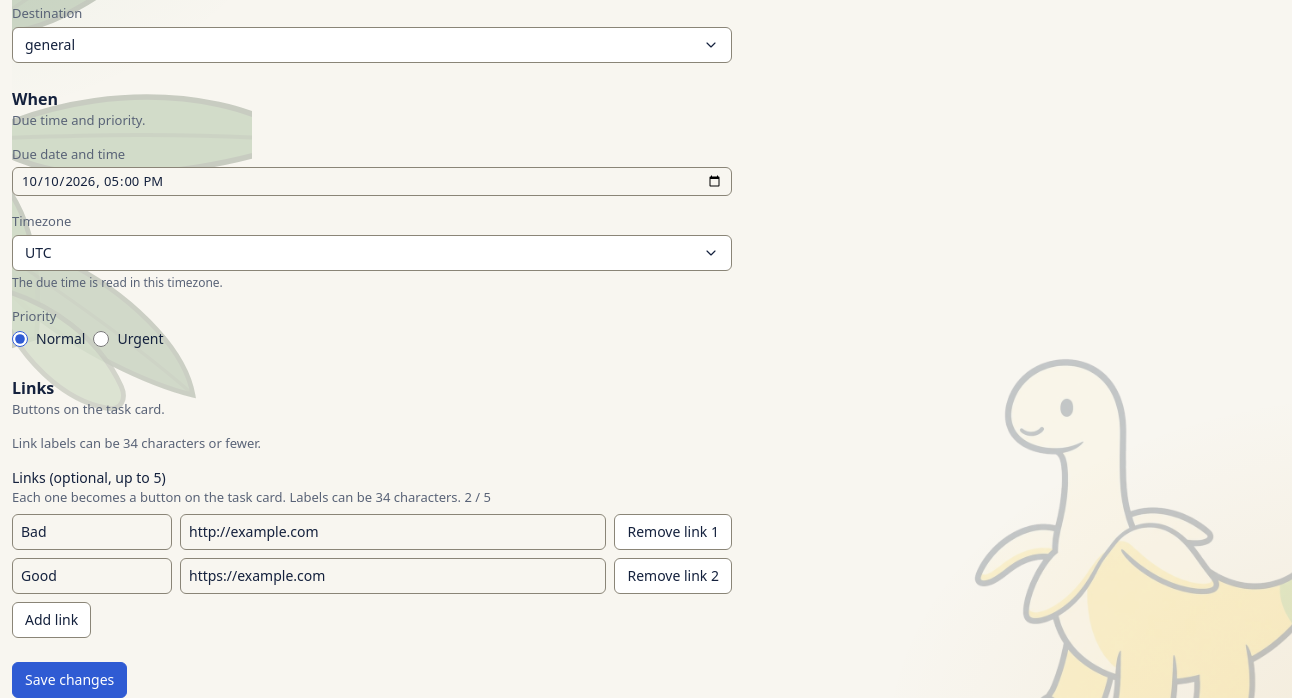
Test case: task detail page › clears stale link errors when a row is removed or edited in the edit form
(page scrolled)
Click the button "Save changes" at (70, 680), box [12, 662, 127, 697]
(page scrolled)
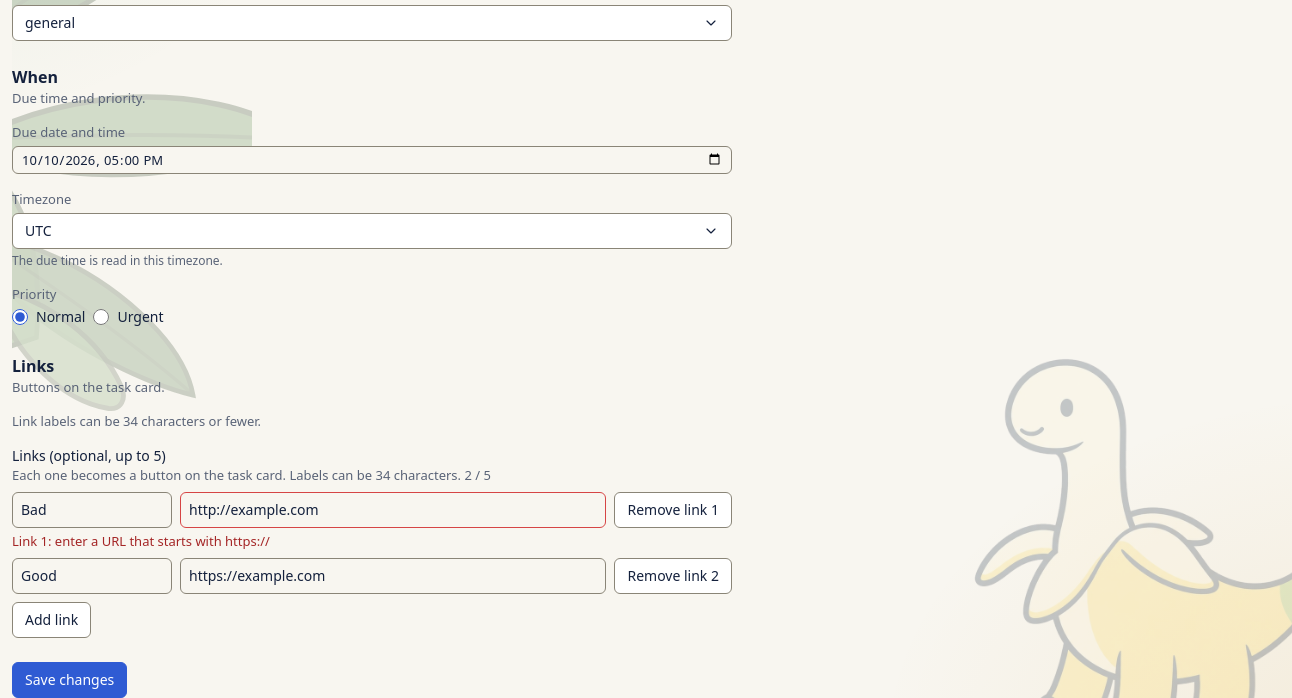
Now the text "Link 1: enter a URL that starts with https://" is shown, box [12, 532, 270, 550]
Replace the text in the field named "Link 1 URL" with "https://fixed.example.com" at (393, 510), box [180, 492, 606, 528]
(page scrolled)
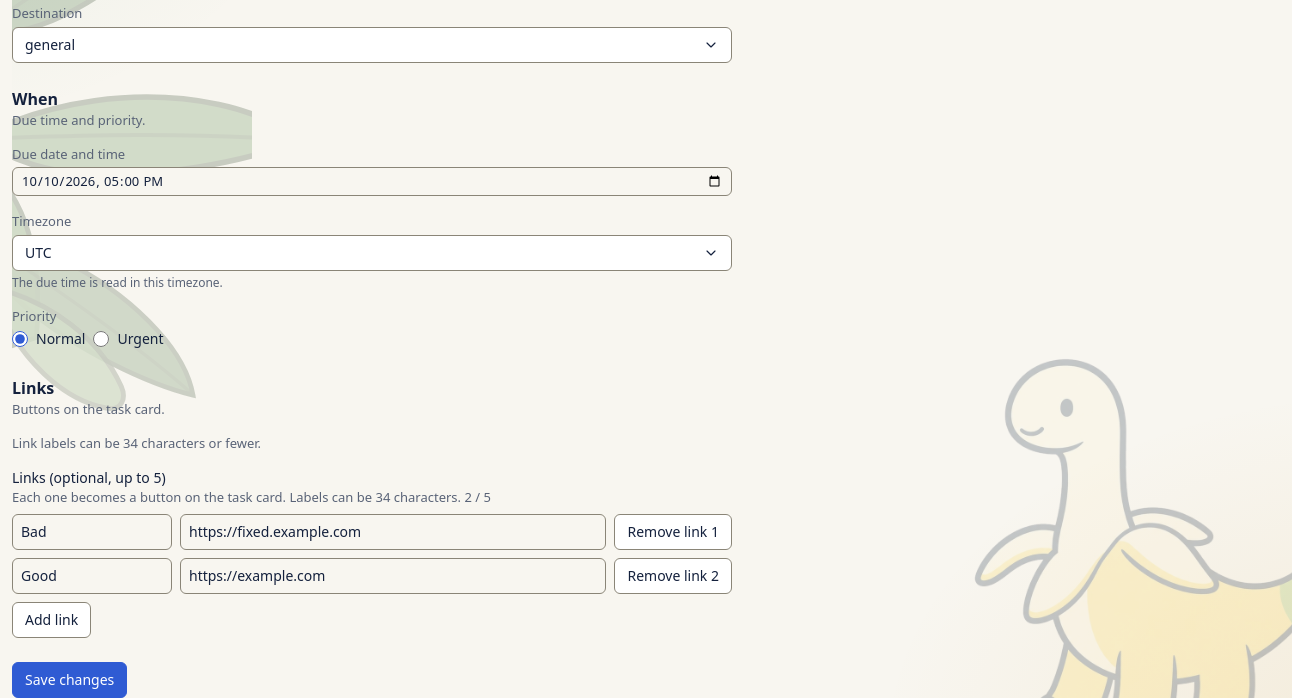
Now the text "Link 1: enter a URL that starts with https://" is gone
Replace the text in the field named "Link 1 URL" with "http://example.com" at (393, 532), box [180, 514, 606, 550]
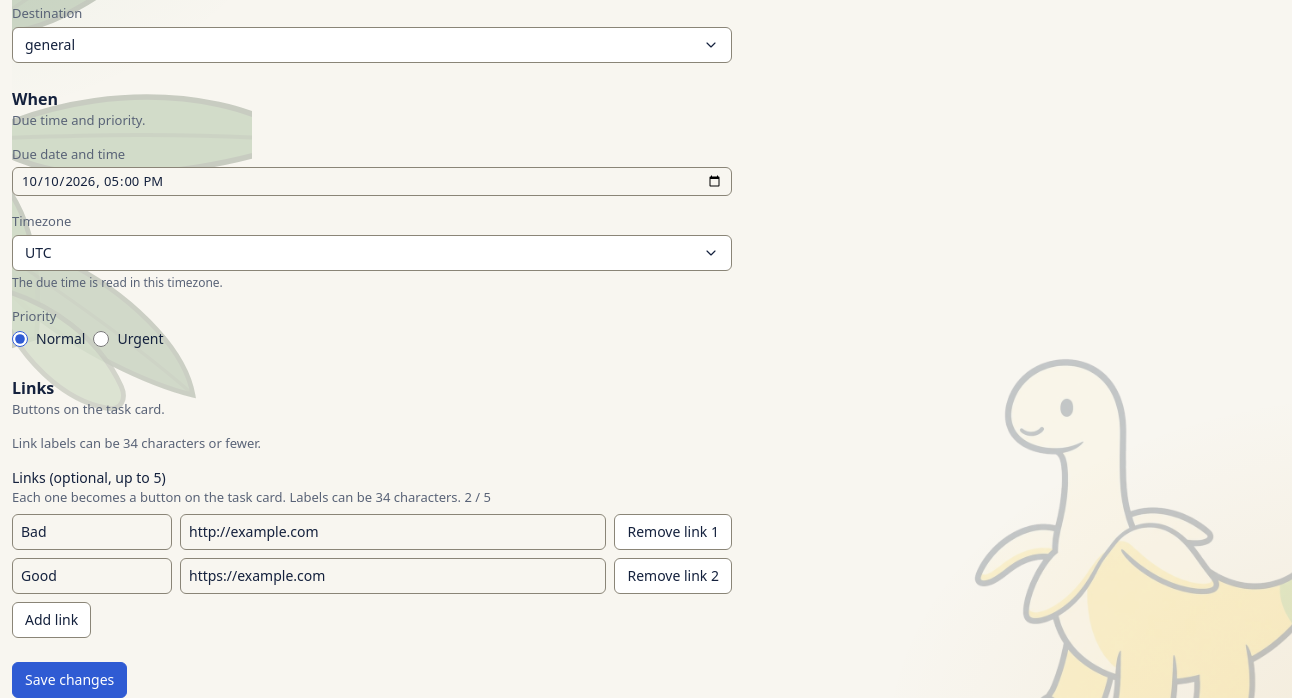
Click the button "Save changes" at (70, 680), box [12, 662, 127, 697]
(page scrolled)
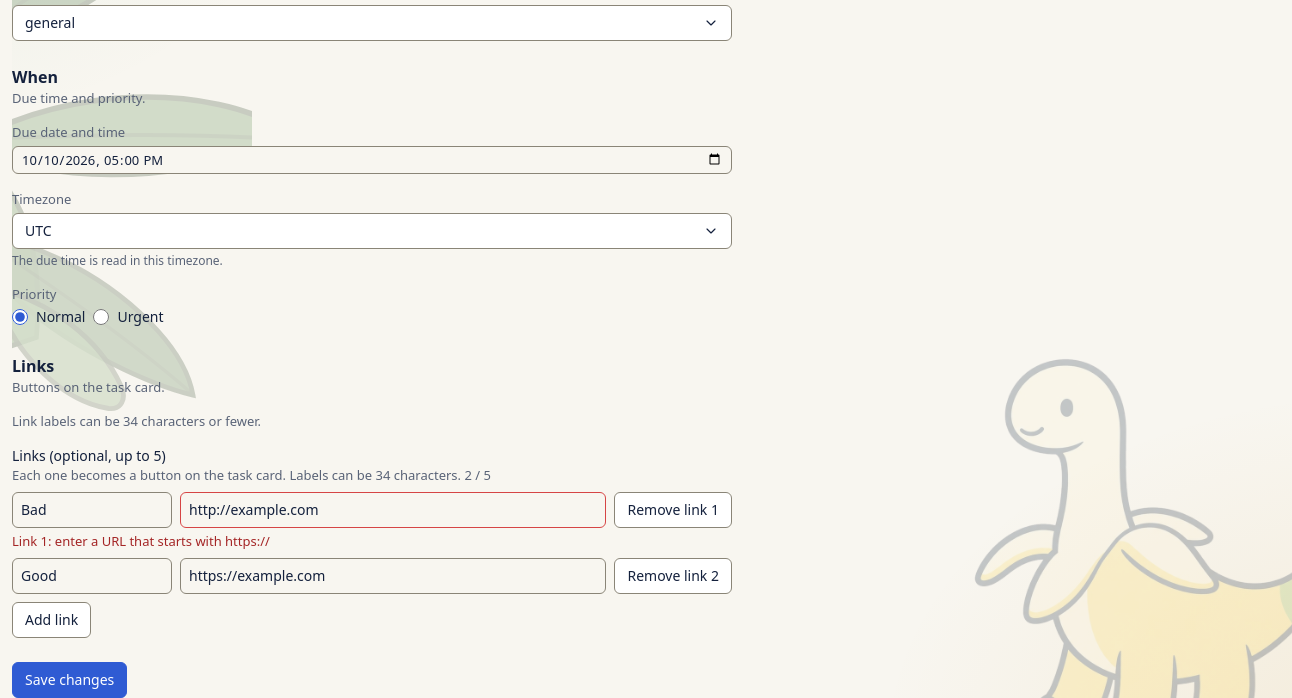
Now the text "Link 1: enter a URL that starts with https://" is shown, box [12, 532, 270, 550]
Click the button "Remove link 1" at (673, 510), box [614, 492, 732, 528]
(page scrolled)
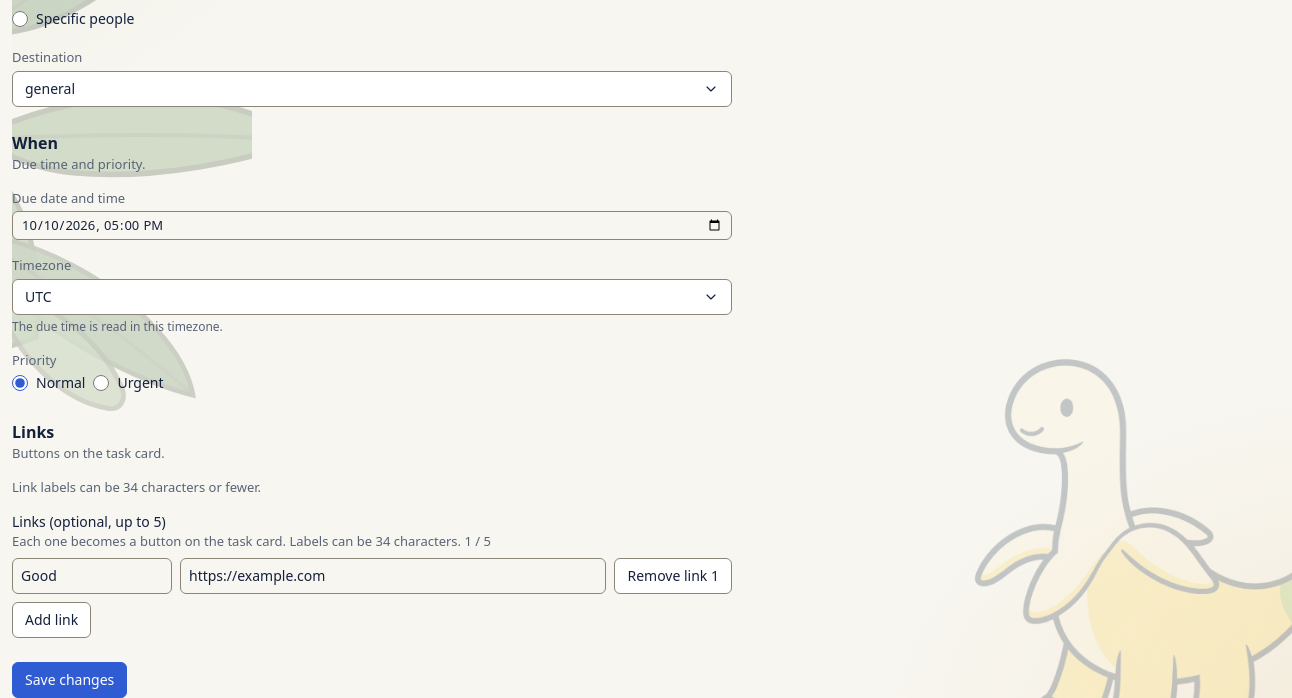
Expected: the field named "Link 1 label" holds "Good", [12, 558, 172, 594]
Now the text "Link 1: enter a URL that starts with https://" is gone
